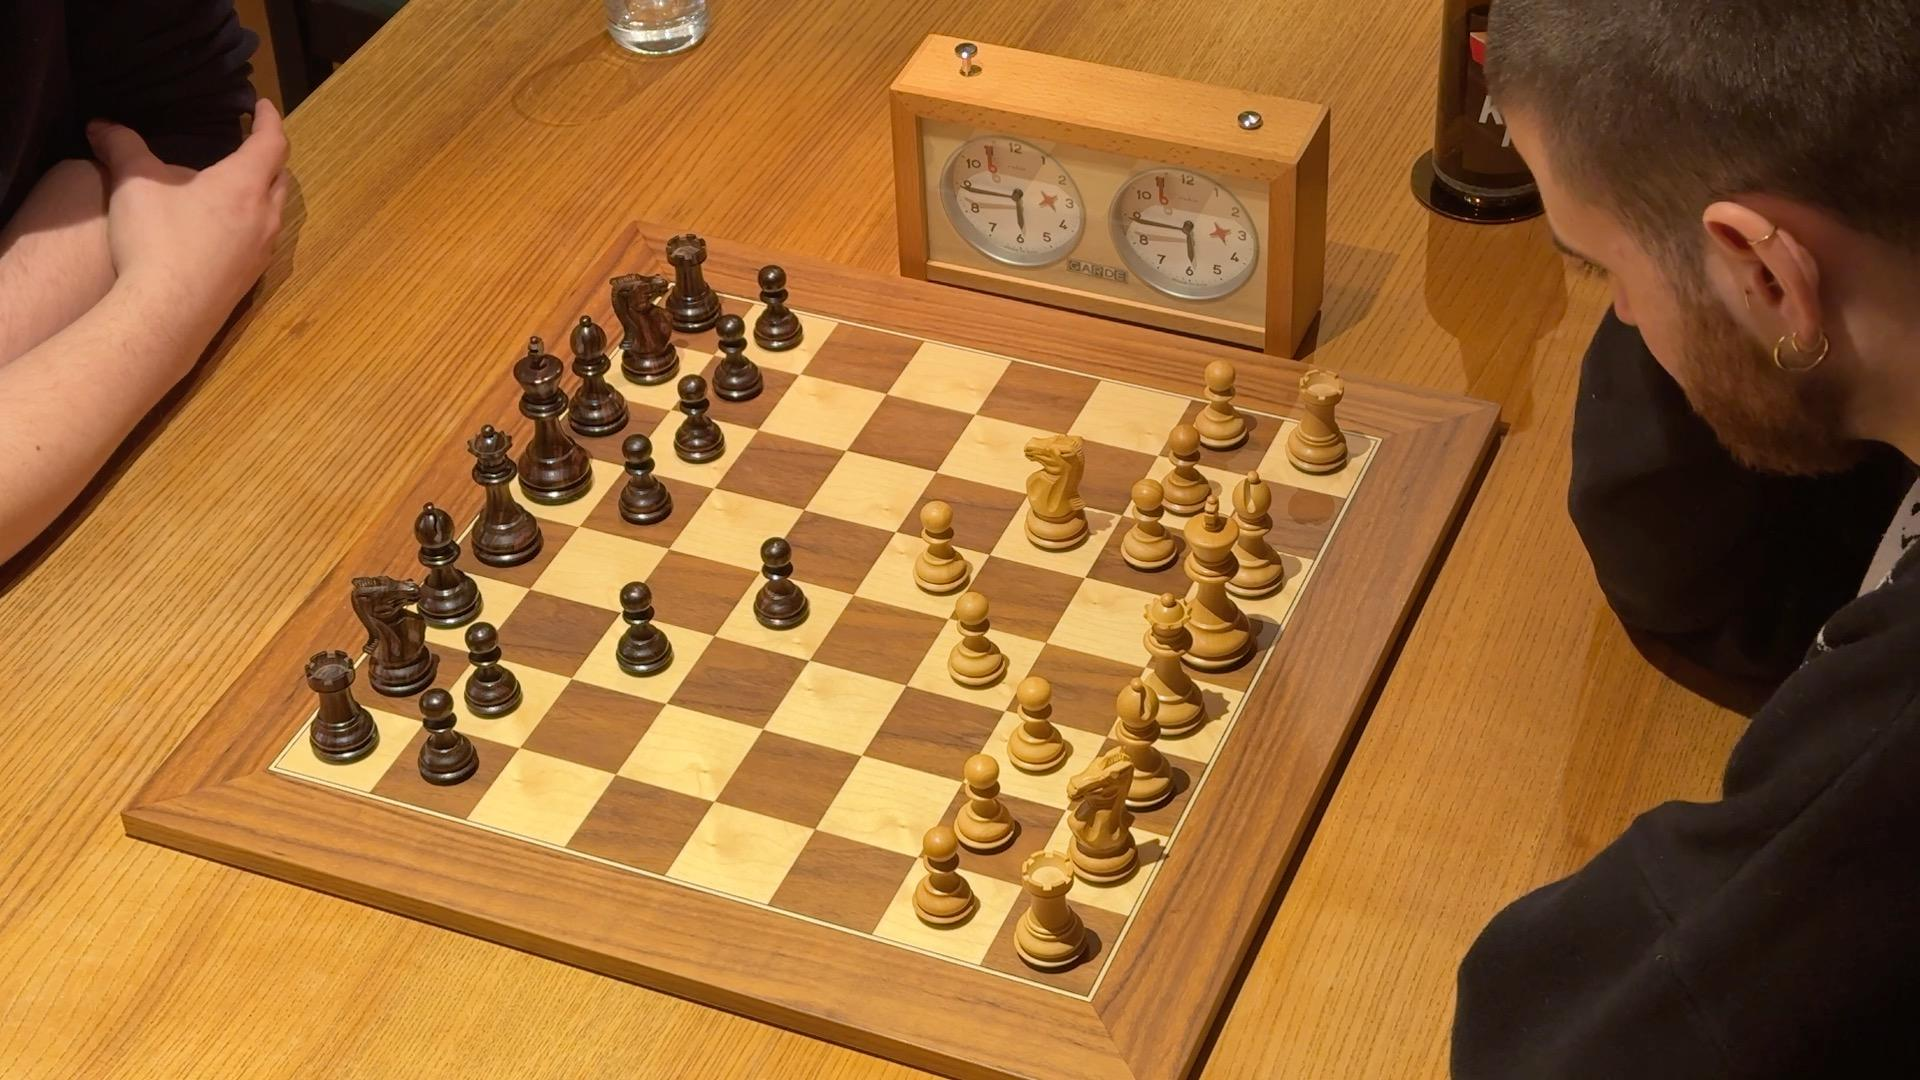Black Bishop: (407, 498, 489, 634), (563, 309, 630, 443)
Black King: (508, 330, 600, 509)
Black Knight: (344, 568, 443, 703), (605, 266, 686, 389)
Black Pawn: (414, 683, 484, 793), (460, 618, 529, 723), (612, 576, 678, 680), (749, 531, 815, 634), (615, 430, 676, 530), (671, 369, 727, 469), (708, 310, 766, 404), (752, 261, 804, 355)
Black Queen: (463, 419, 546, 574)
Black Rook: (302, 646, 381, 770), (659, 229, 725, 335)
White Bishop: (1097, 673, 1184, 814), (1216, 465, 1292, 604)
White King: (1160, 491, 1262, 680)
White Knight: (1060, 744, 1145, 893), (1014, 430, 1095, 559)
White Pawn: (907, 819, 982, 936), (951, 748, 1021, 858), (1004, 670, 1071, 781), (909, 495, 980, 597), (944, 585, 1013, 692), (1117, 475, 1179, 578), (1154, 419, 1217, 520), (1189, 356, 1250, 452)
White Queen: (1120, 589, 1218, 742)
White Rook: (1011, 845, 1095, 980), (1283, 363, 1354, 480)
